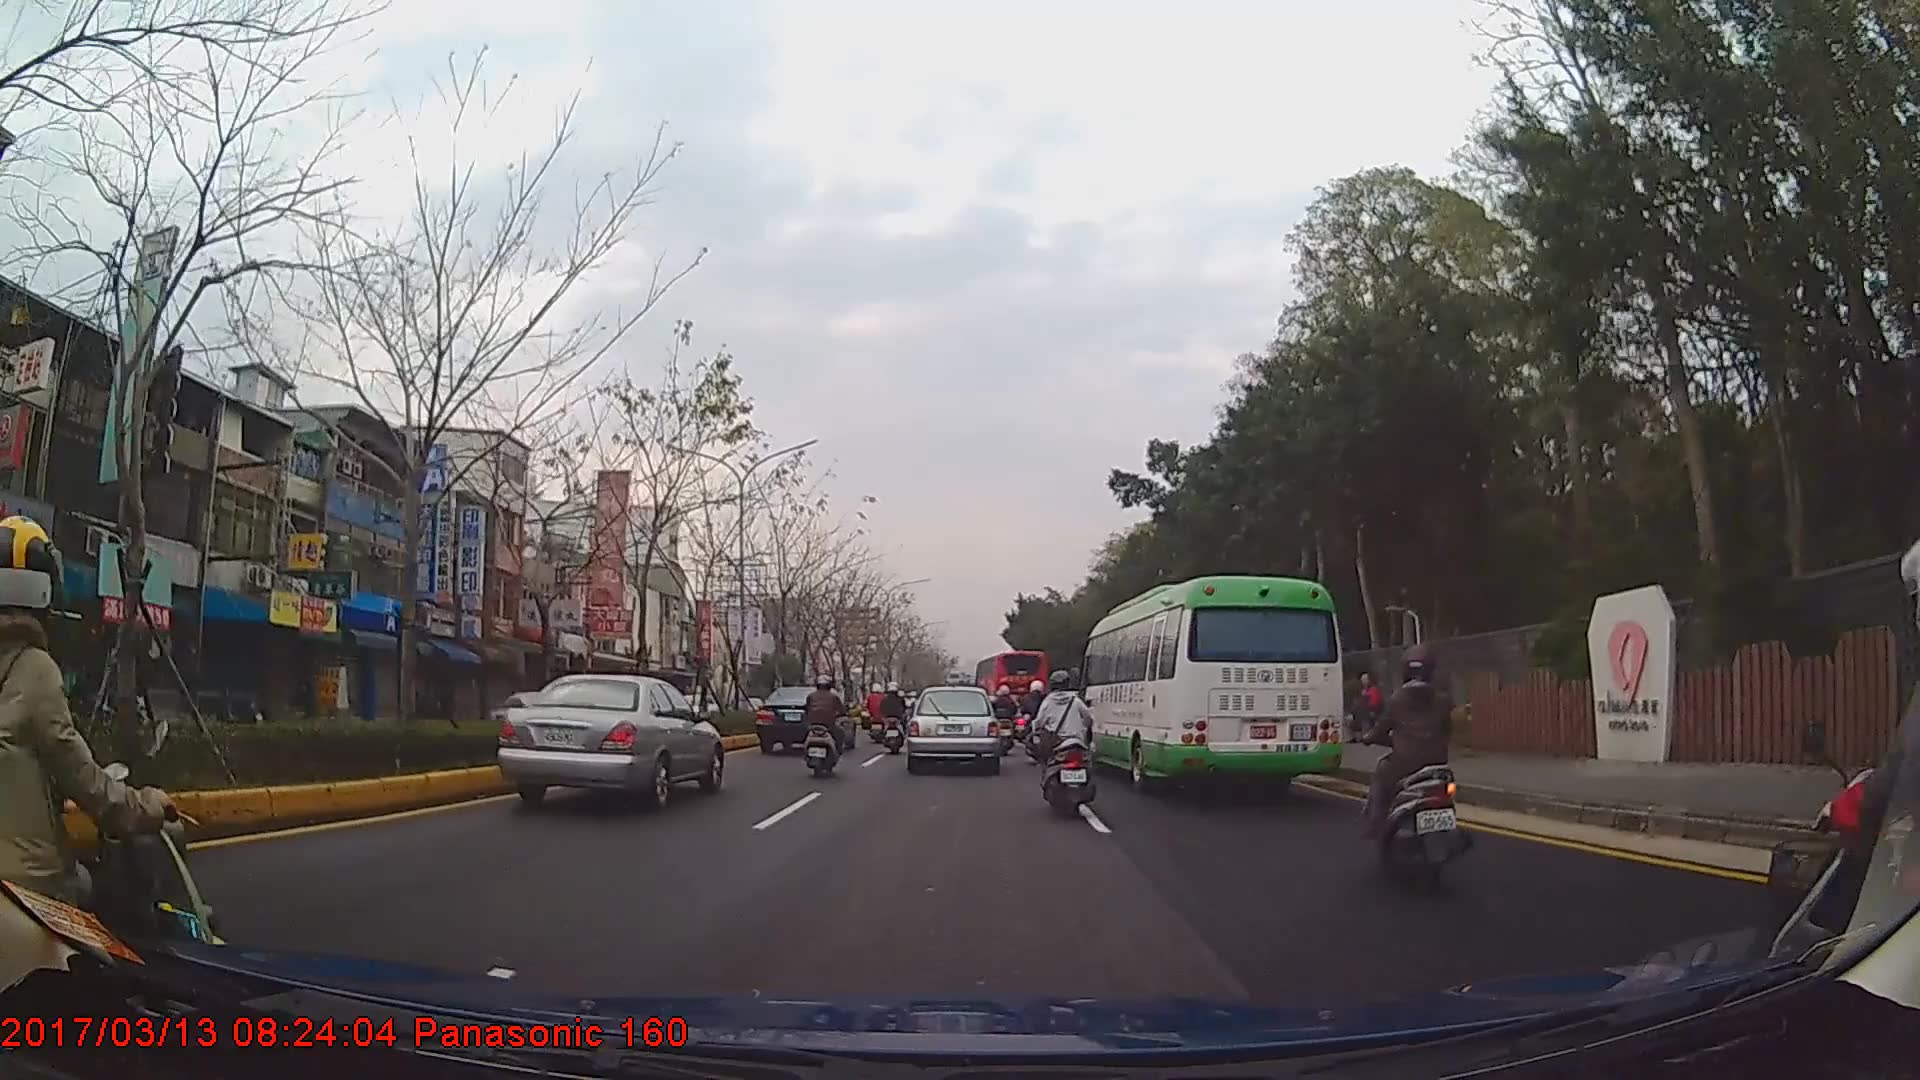pedestrian: (1349, 674, 1385, 748)
rider: (1, 511, 231, 1037), (1356, 647, 1471, 882), (1032, 670, 1093, 819), (804, 673, 849, 776), (879, 682, 908, 755), (988, 685, 1017, 756), (1024, 679, 1051, 745), (866, 682, 891, 745), (903, 691, 923, 728)
vehicle: (1073, 572, 1343, 790), (496, 670, 721, 815), (903, 686, 1002, 773), (757, 683, 859, 754), (975, 647, 1046, 723)
